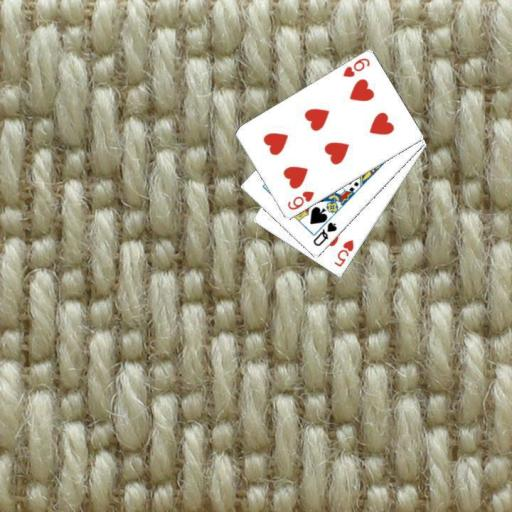card-corner: (310, 219, 339, 248), (330, 237, 356, 269), (284, 188, 316, 212), (340, 55, 371, 79)
